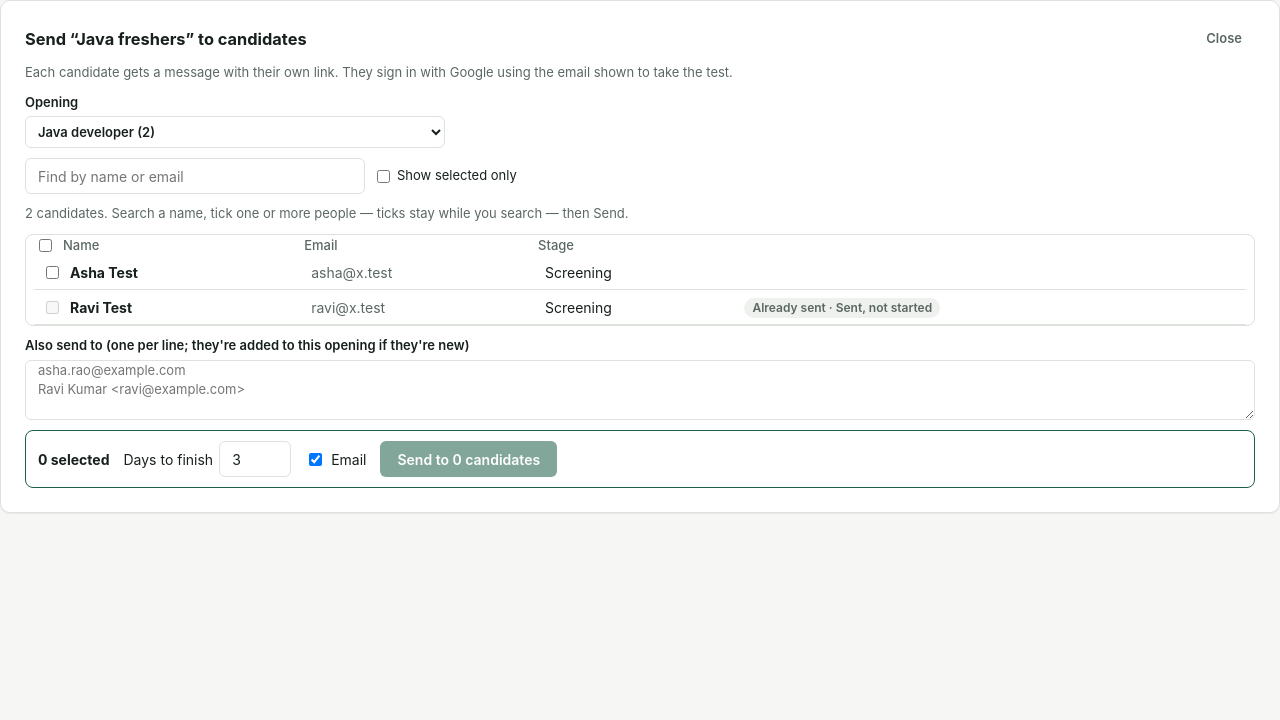
it: Send to candidates › is simple for an AI interview: everyone listed, tick, send (AINT-18)
Expected: the text "2 candidates. Search a name, tick one or more people" is shown, [25, 205, 629, 221]
Expected: the text "Already sent · Sent, not started" is shown, [744, 298, 940, 318]
Click the checkbox named "Send to Asha Test" at (52, 272), box [46, 266, 59, 279]
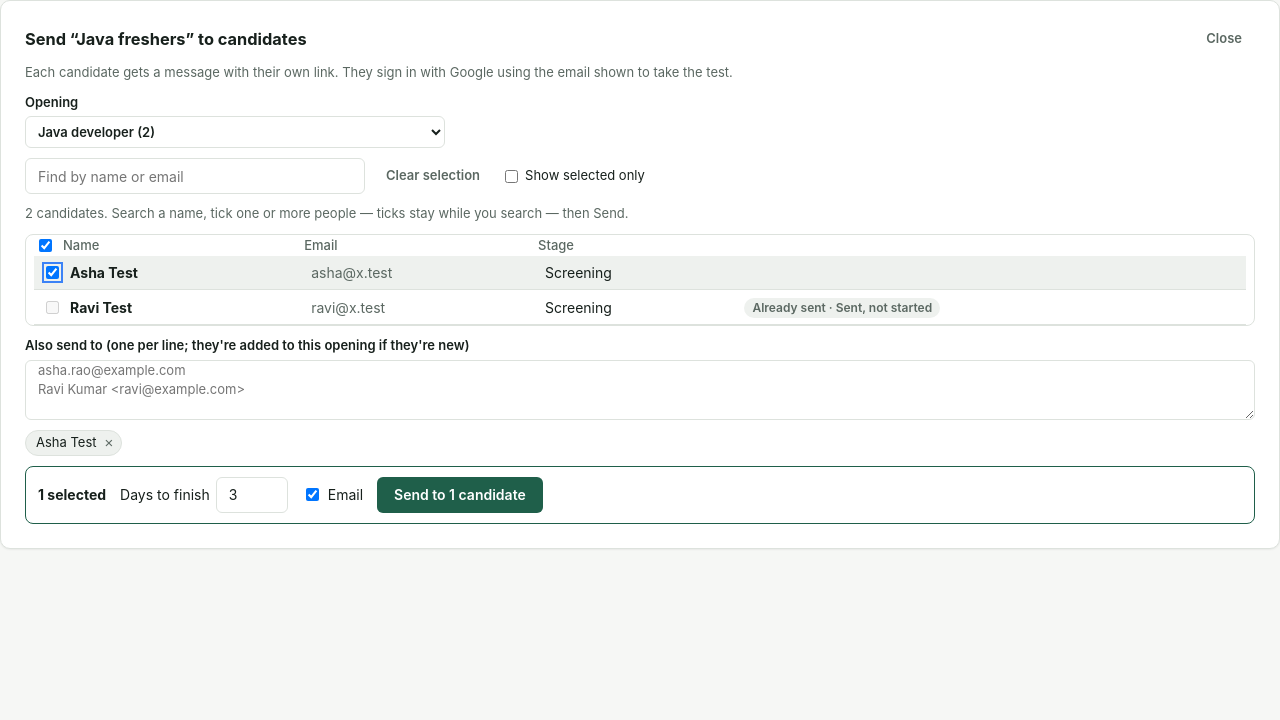
Click the button "Send to 1 candidate" at (460, 494), box [377, 476, 543, 512]
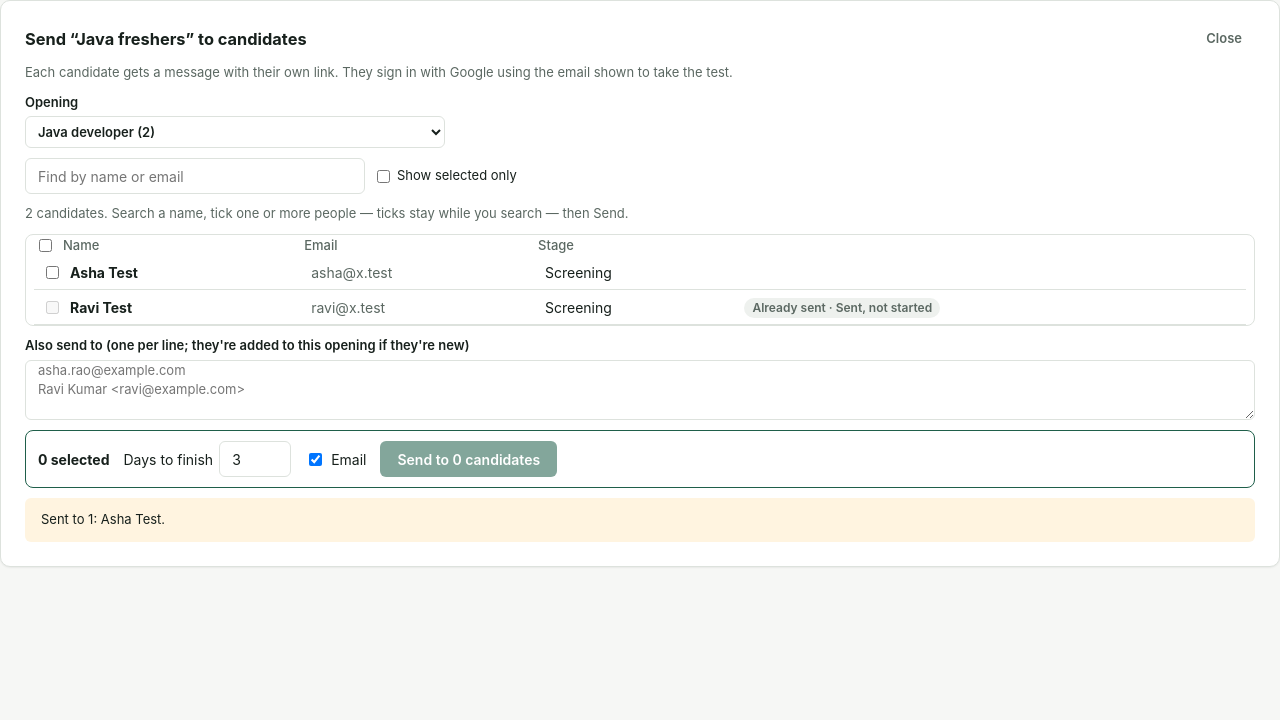
Expected: the text "Sent to 1: Asha Test." is shown, [41, 511, 165, 527]
